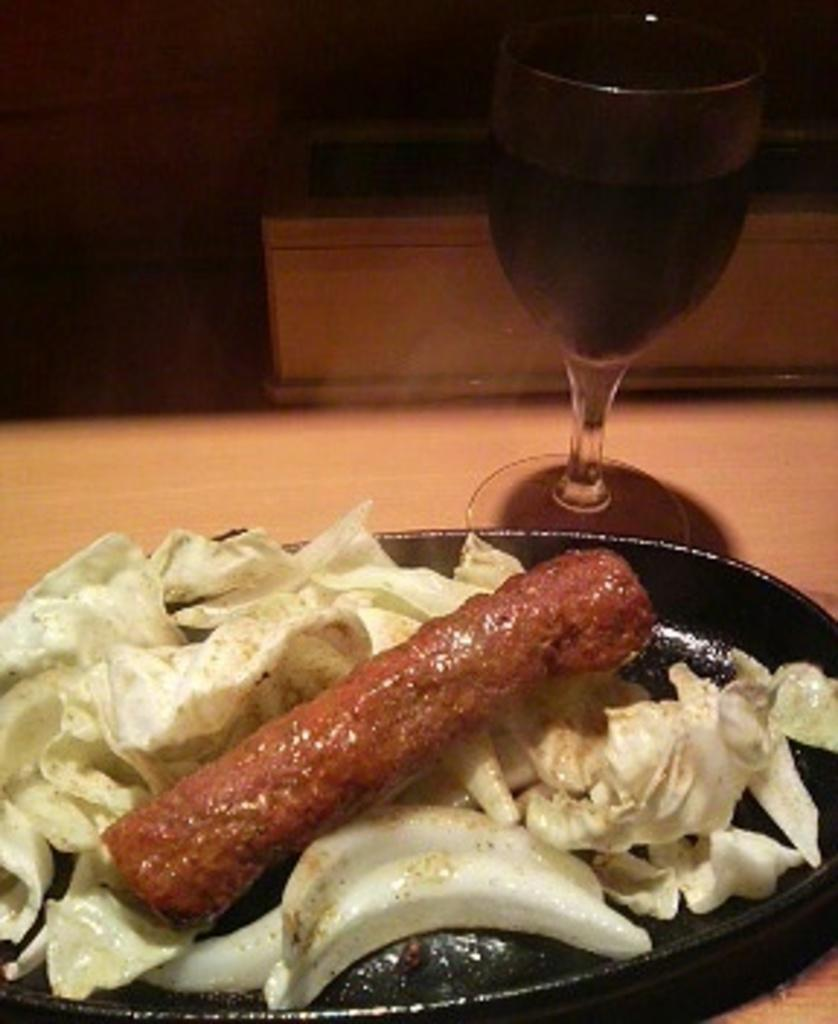glass-wine: (468, 12, 762, 541)
